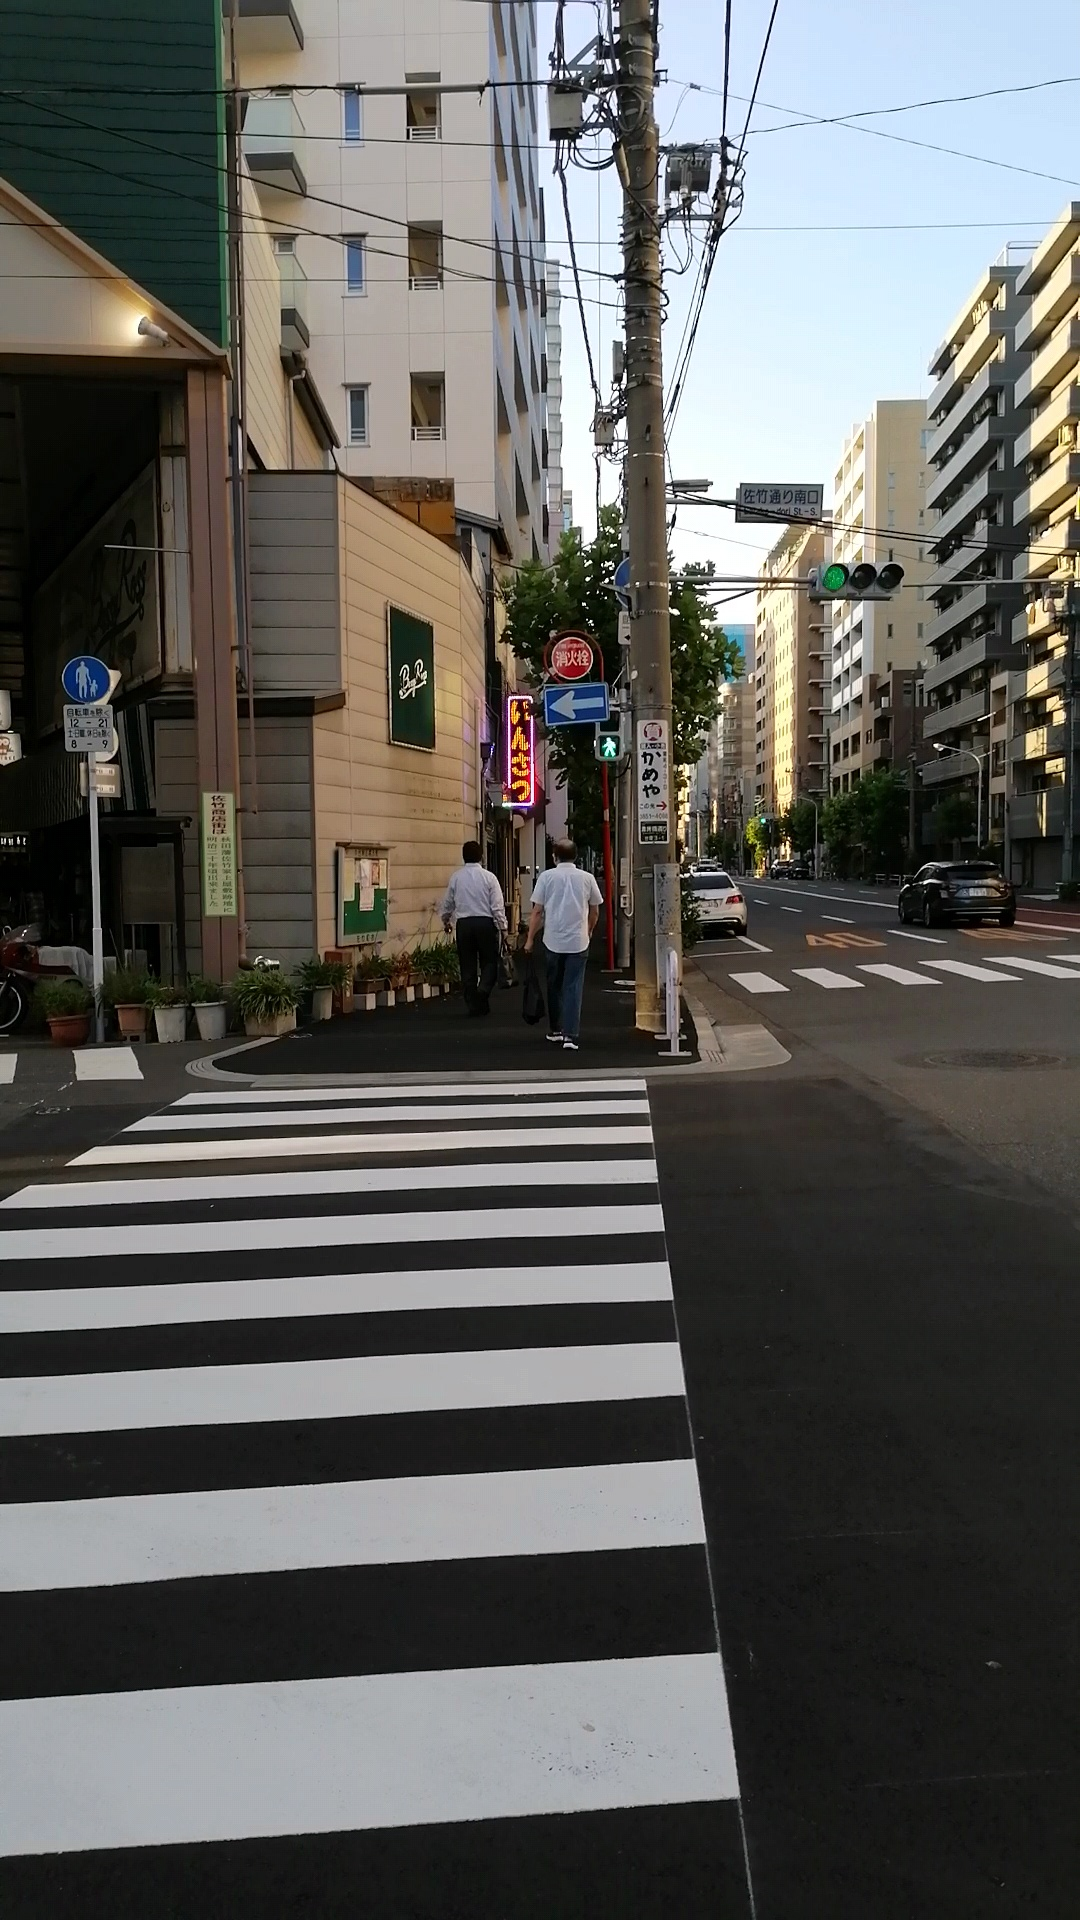green: (593, 707, 624, 761)
